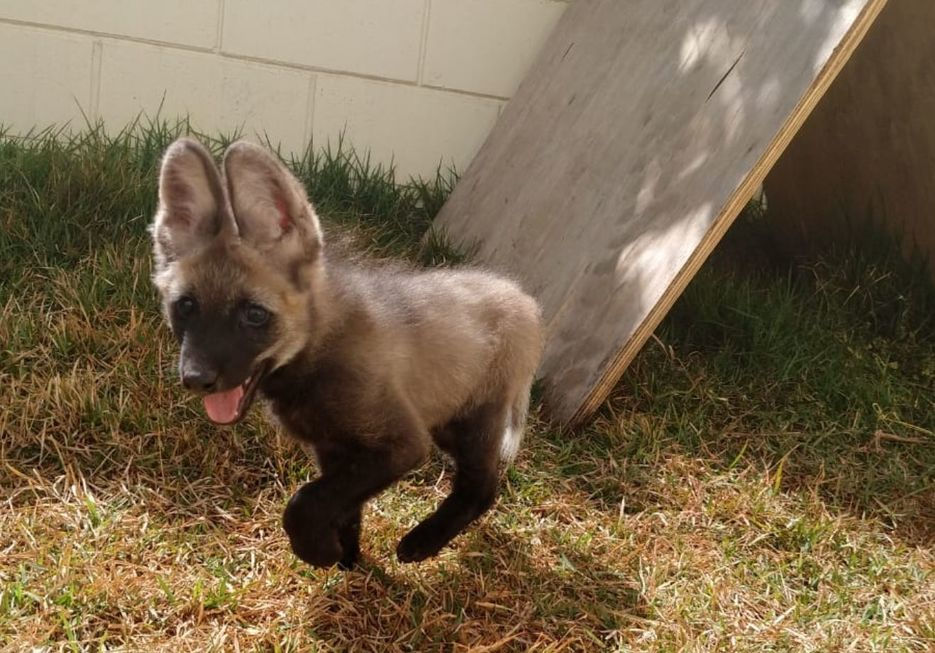LoboGuara: (134, 129, 553, 576)
